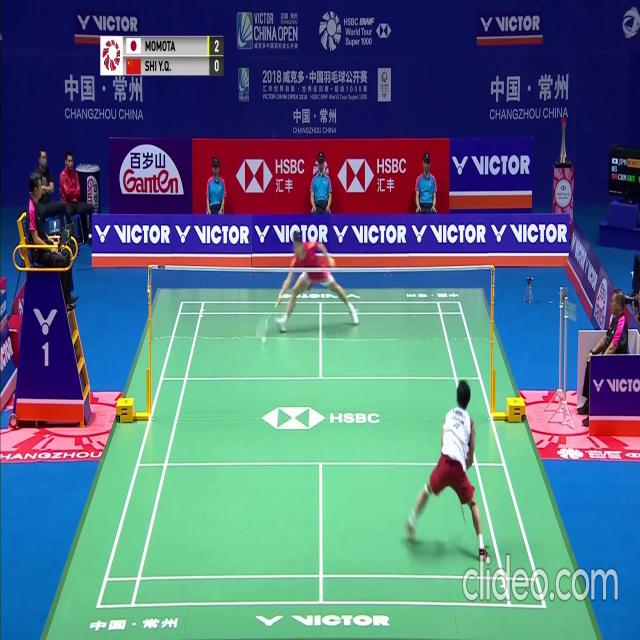Shuttlecock: (261, 336, 266, 343)
